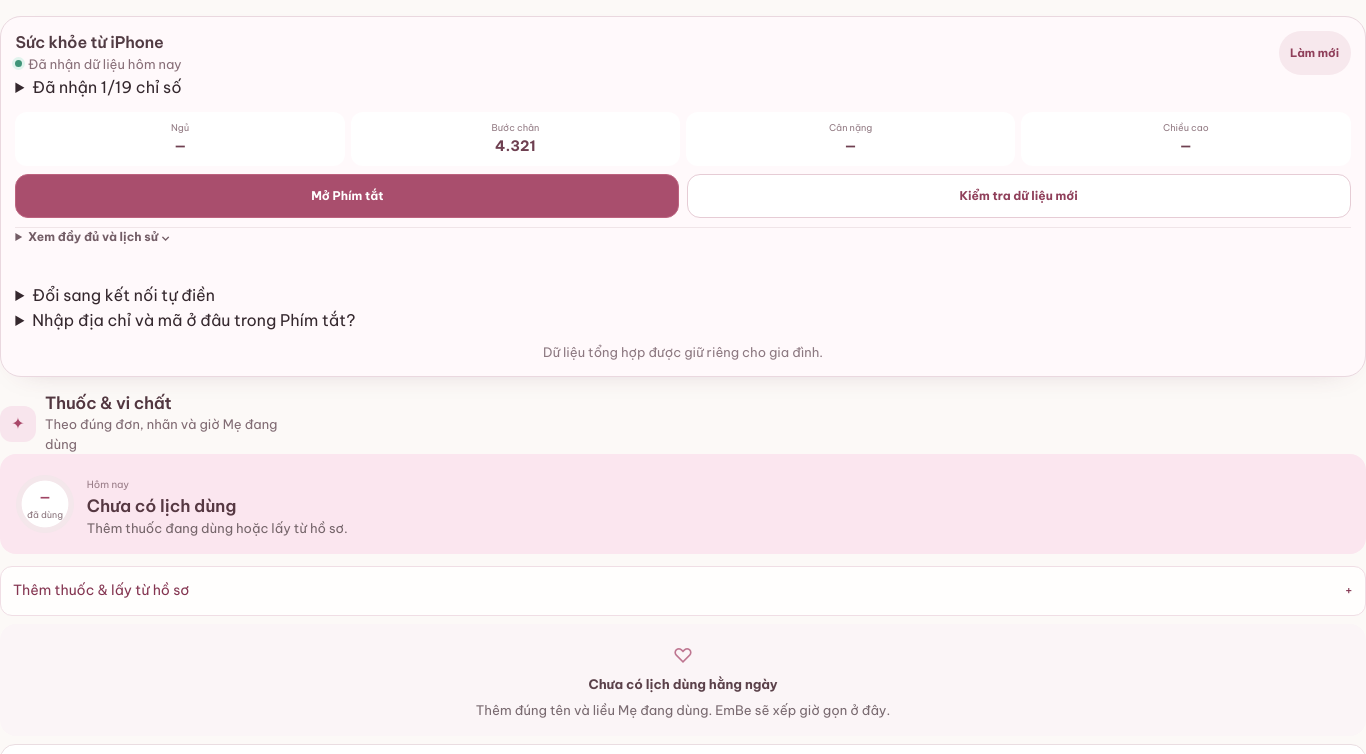
iPhone health connection state › shows old body measurements as dated references, never as current-day values
Expected: the text "4.321" is shown, [495,137,536,155]
Expected: the element "Số gần nhất trong lịch sử đã tải" is not shown
Click the heading "Xem đầy đủ và lịch sử ⌄".
click(99, 237)  # box [28,229,170,244]
(page scrolled)
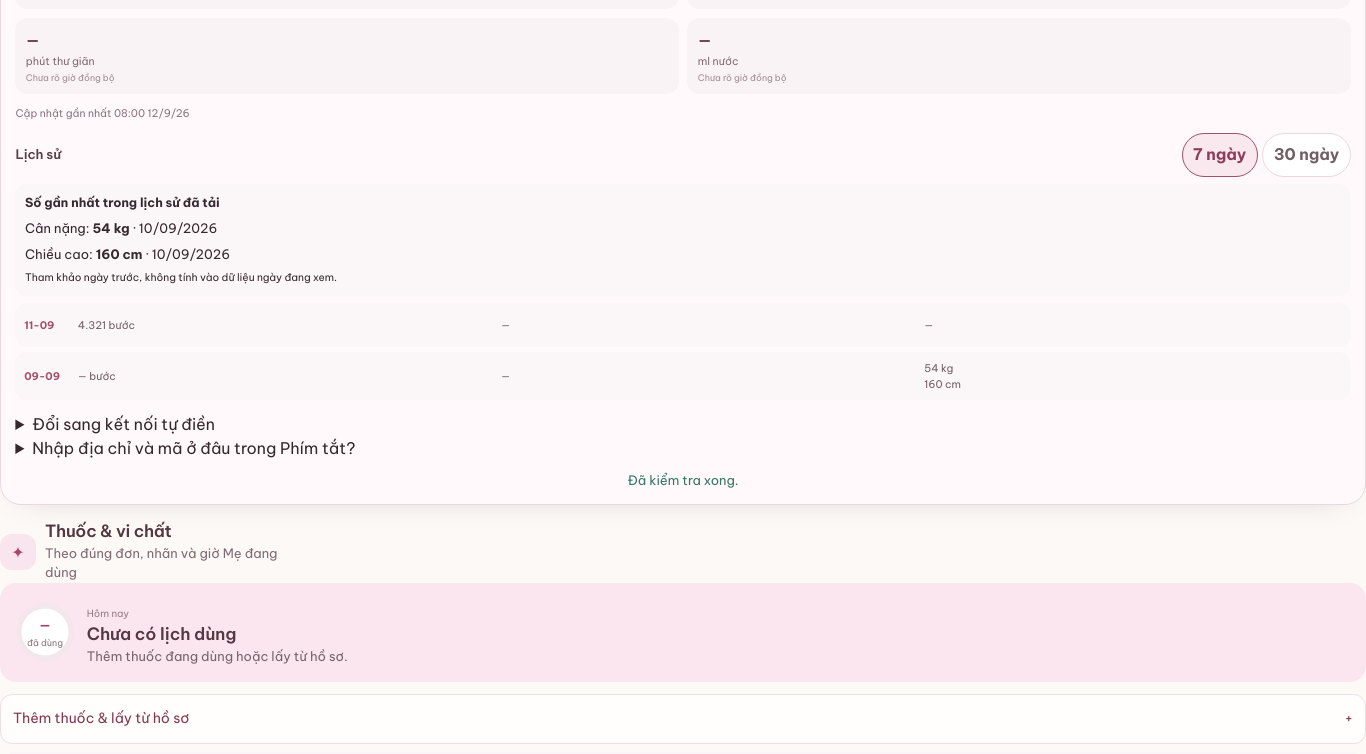
Expected: the element "Số gần nhất trong lịch sử đã tải" shows "54 kg", [15,184,1351,296]
Expected: the element "Số gần nhất trong lịch sử đã tải" shows "160 cm", [15,184,1351,296]
Expected: the element "Số gần nhất trong lịch sử đã tải" shows "10/09/2026", [139,220,217,236]
